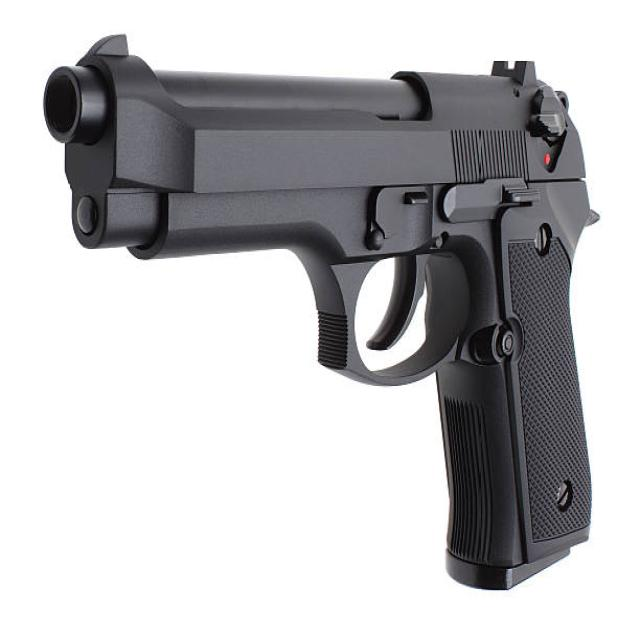pistol: (40, 25, 603, 602)
